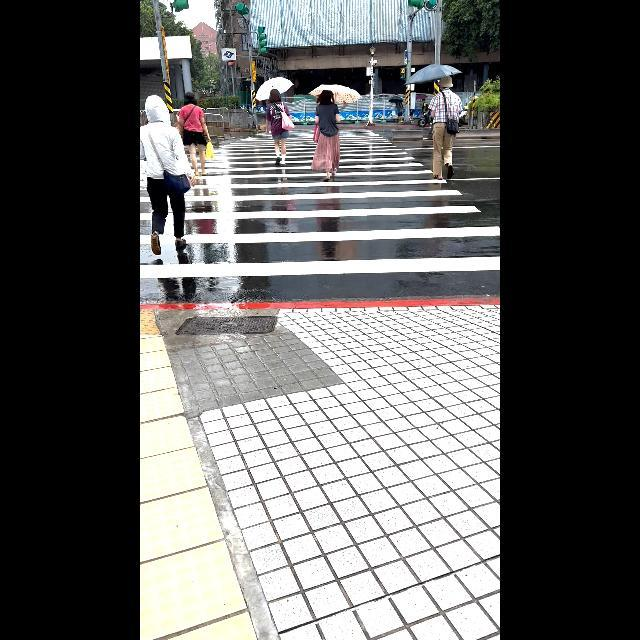sidewalk: (140, 125, 500, 279)
